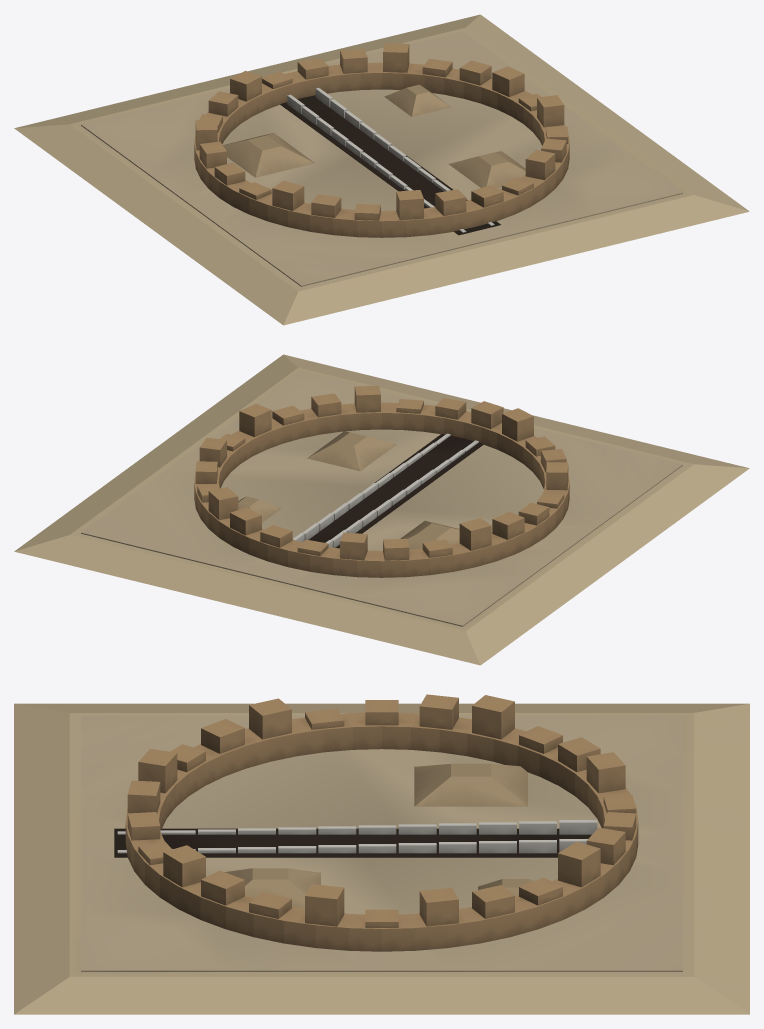
Rendered from observatory-ruin.glb.
The picture shows the model from 3 angles, top to bottom: view 1: azimuth 30°, elevation 25°; view 2: azimuth 150°, elevation 25°; view 3: azimuth 270°, elevation 25°; orthographic projection. The views are drawn at different scales.
Parts seen in each view (by area): view 1: p0_hill, p1_ruins; view 2: p0_hill, p1_ruins; view 3: p0_hill, p1_ruins.
Boxes of the visible parts, <box> form: p0_hill: <box>14,14,749,325</box>; p1_ruins: <box>194,43,569,237</box>; p0_hill: <box>14,354,749,665</box>; p1_ruins: <box>194,385,569,577</box>; p0_hill: <box>14,703,749,1014</box>; p1_ruins: <box>114,694,638,951</box>.
Size of the model in its own units: 66 by 6.5 by 66.
